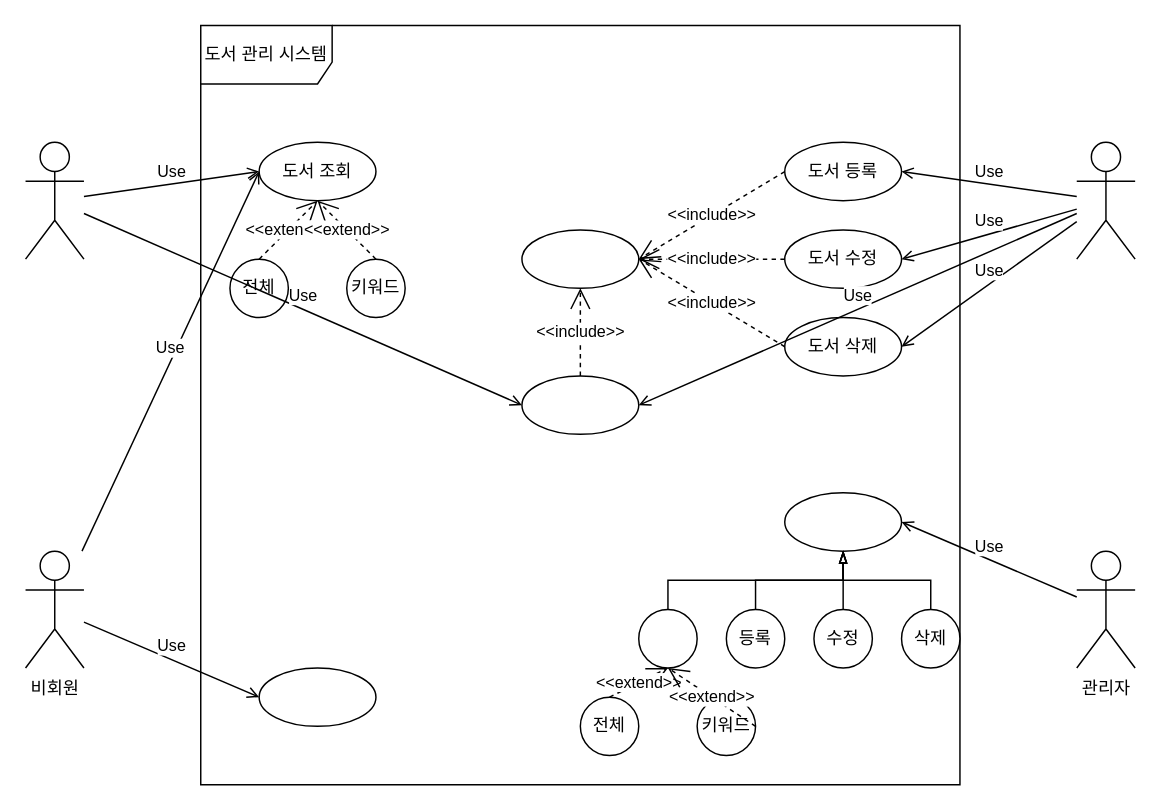
This 1161x810 diagram has some shape labels left out. Each missing label, with the centre of its shape:
"나의 정보조회" belongs at point 579,404.
"로그인" belongs at point 579,258.
"사서" belongs at point 1105,200.
"조회" belongs at point 667,638.
"회원" belongs at point 54,200.
"회원가입" belongs at point 317,696.
"회원관리" belongs at point 842,521.
